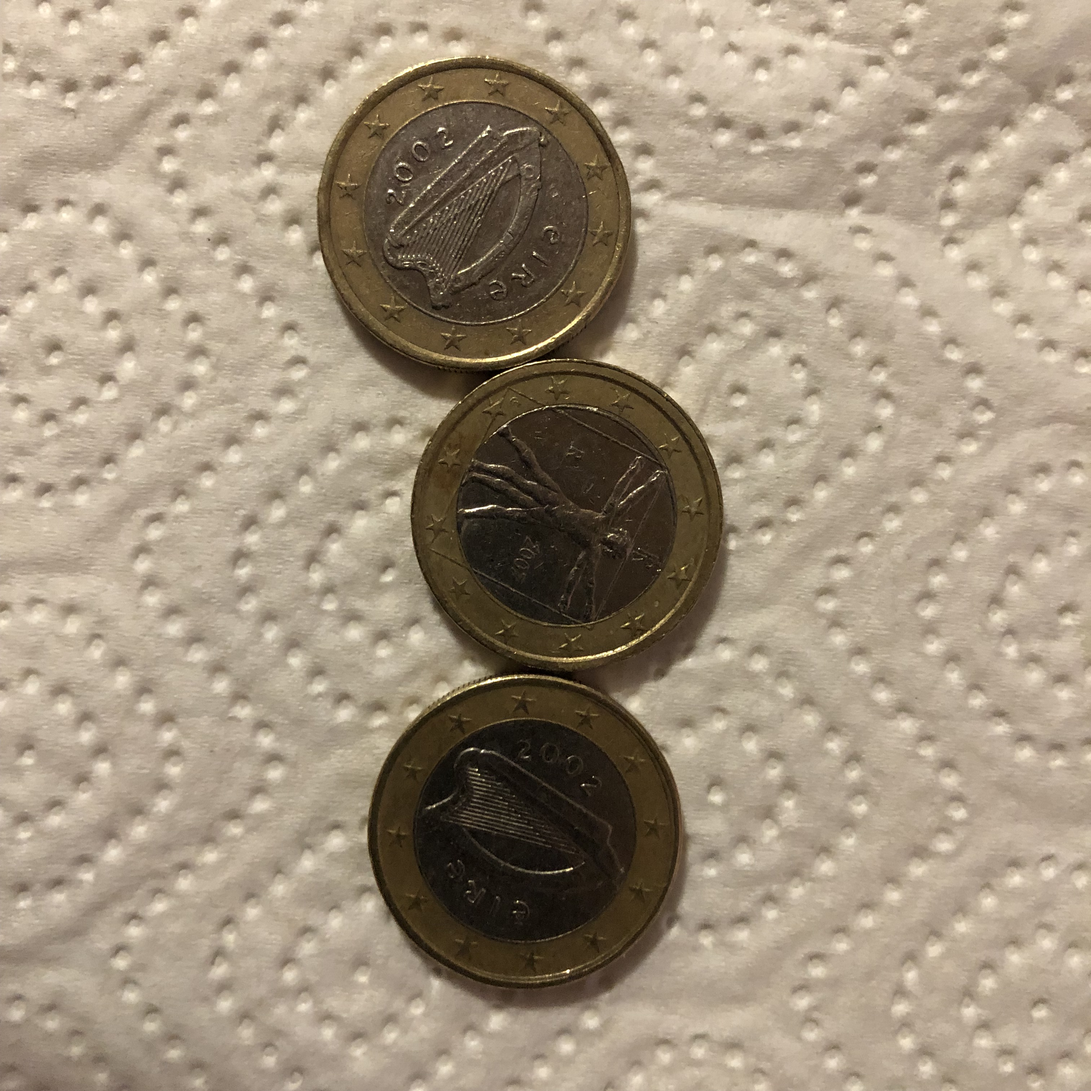1 euro: (365, 673, 685, 990), (312, 52, 633, 368), (410, 356, 722, 671)
